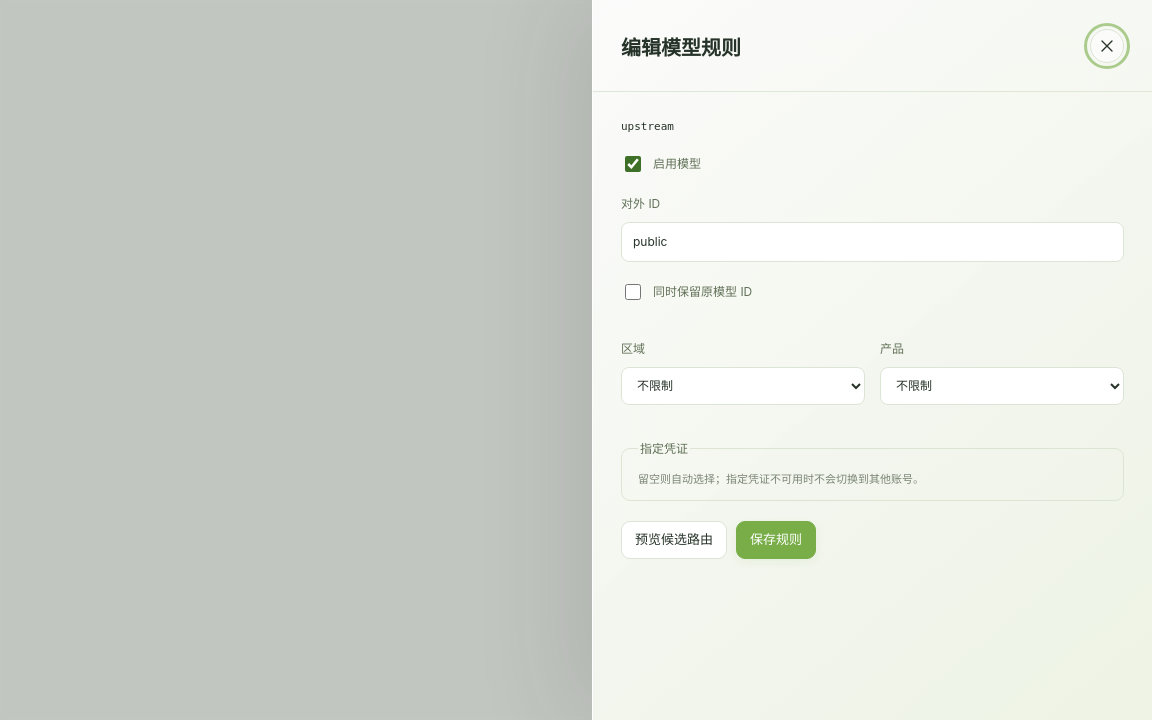
Scenario: model rules and route preview › retains the editor on rejected save
What coordinates should you click on to do the following:
click the button "保存规则"
I would click on:
 (776, 540)
Its box is x1=736 y1=522 x2=816 y2=559.
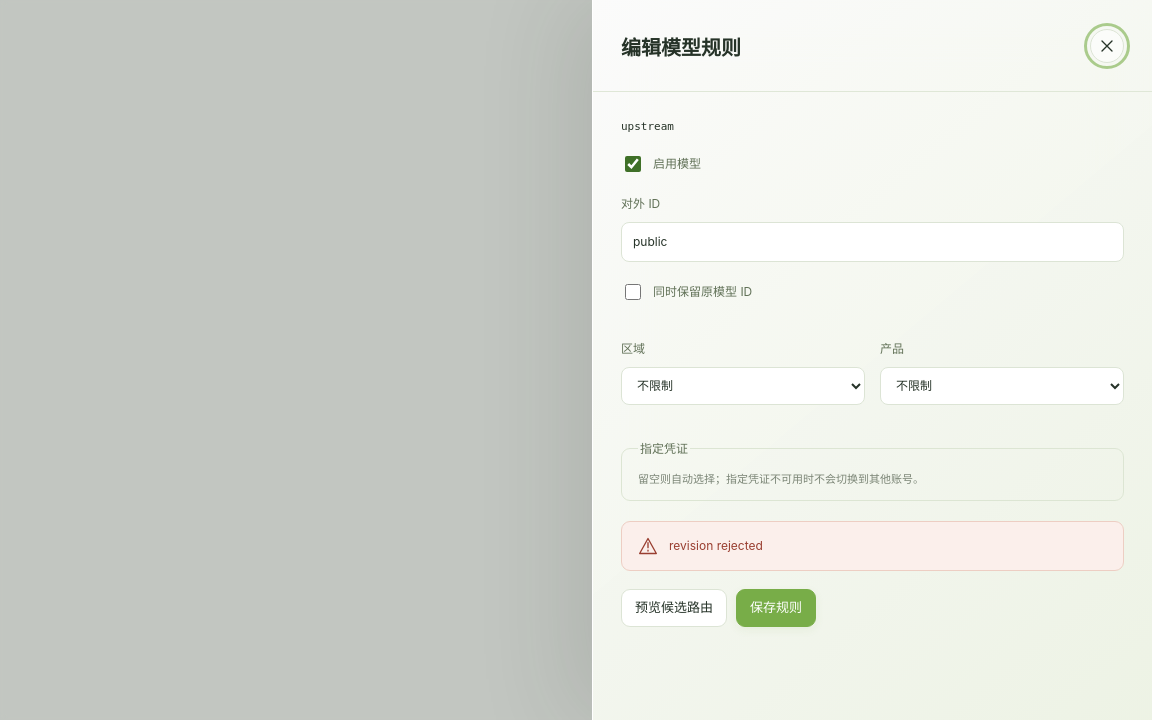
Check: the message reads "revision rejected", box x1=669 y1=538 x2=763 y2=554
